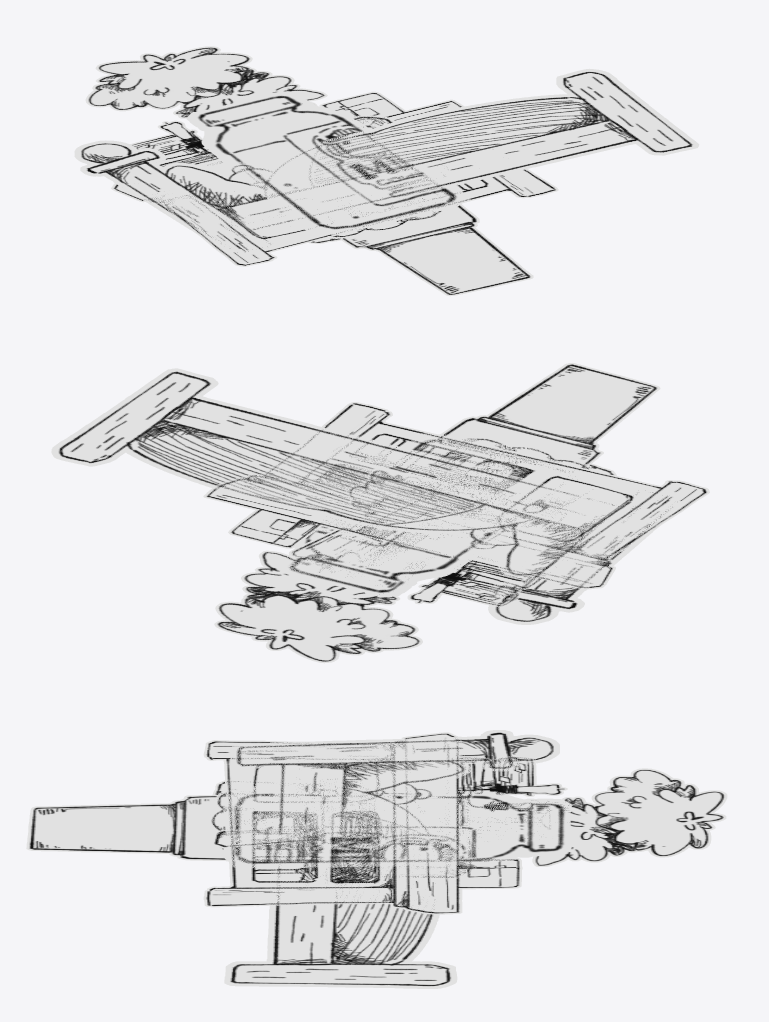
File: 空房间.fbx
3 views of the same model, one above another, from view 1: azimuth 30°, elevation 25°; view 2: azimuth 150°, elevation 25°; view 3: azimuth 270°, elevation 25° (orthographic). The views are drawn at different scales.
Visible parts, largest first — view 1: 平面.001, 平面.002, 平面.005, 平面.003, 平面.004, 平面.006; view 2: 平面.001, 平面.003, 平面.005, 平面.002, 平面.007, 平面.004; view 3: 平面.003, 平面.001, 平面.005, 平面.002, 平面.007, 平面.004, 平面.006.
Part boxes in pixels (x1,y1,x2,y2): 平面.001: [74, 68, 699, 252]; 平面.002: [186, 92, 471, 234]; 平面.005: [85, 46, 533, 296]; 平面.003: [111, 91, 558, 266]; 平面.004: [326, 209, 447, 238]; 平面.006: [184, 114, 457, 224]; 平面.001: [51, 368, 677, 624]; 平面.003: [203, 402, 709, 607]; 平面.005: [214, 363, 660, 663]; 平面.002: [278, 433, 574, 597]; 平面.007: [288, 438, 616, 563]; 平面.004: [392, 436, 595, 549]; 平面.003: [203, 732, 567, 914]; 平面.001: [224, 730, 559, 988]; 平面.005: [26, 768, 727, 866]; 平面.002: [223, 786, 572, 869]; 平面.007: [212, 778, 531, 857]; 平面.004: [208, 789, 554, 852]; 平面.006: [296, 756, 475, 879].
Size of the model in its own units: 110 by 1.98e-05 by 121.
1 material, 1 textured.
